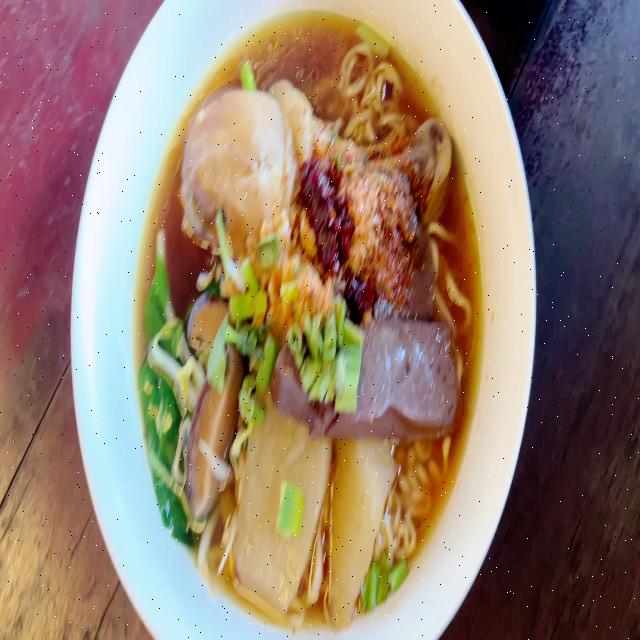boiled_chicken_blood_jelly: (271, 322, 457, 432), (400, 220, 434, 312)
chicken_drumstick: (182, 81, 455, 243)
daikon_radish: (242, 428, 398, 608)
noodle: (163, 50, 465, 579)
